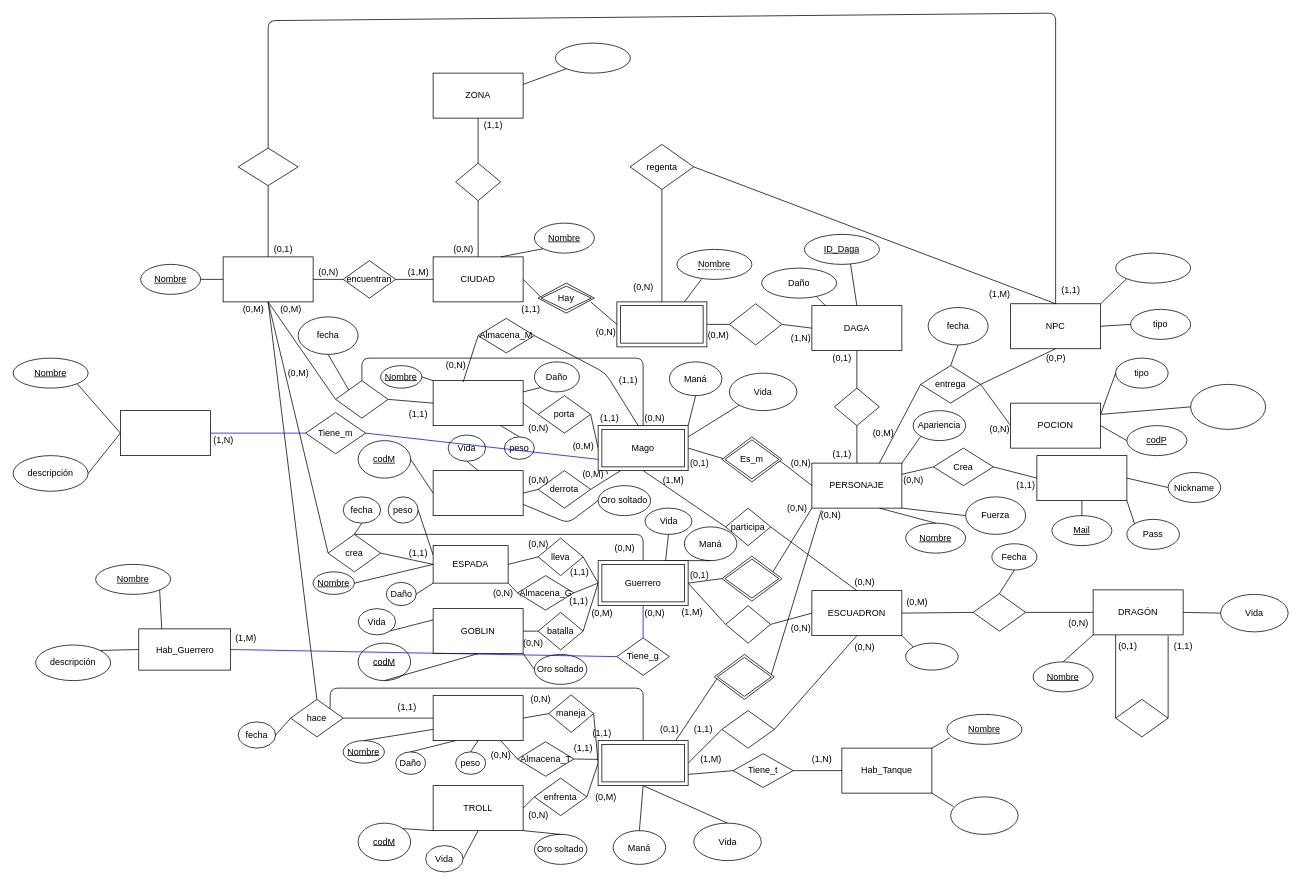
The diagram is 1301 pixels wide and 885 high, and some of its shapes have lost their labels. The shapes that lost their labels are listed below. From the top down, each one's centre as x and y in pixels, then its label:
At point (592, 57): "ID_zona".
At point (267, 166): "dueño".
At point (478, 181): "esta".
At point (267, 279): "FORJA".
At point (1153, 267): "ID_NPC".
At point (661, 324): "TIENDA".
At point (755, 324): "Compra".
At point (361, 399): "fabrica".
At point (477, 403): "BÁCULO".
At point (856, 406): "tiene".
At point (1228, 406): "Valores de regeneración".
At point (165, 433): "Hab_Mago".
At point (477, 493): "ESPECTRO".
At point (1081, 478): "JUGADOR".
At point (751, 578): "Es_g".
At point (748, 624): "parte de".
At point (999, 612): "vence".
At point (744, 676): "Es_t".
At point (931, 656): "ID E#".
At point (477, 718): "HACHA".
At point (747, 729): "juega".
At point (1141, 718): "Desbloquea".
At point (642, 763): "Tanque".
At point (984, 815): "Descripcion".
